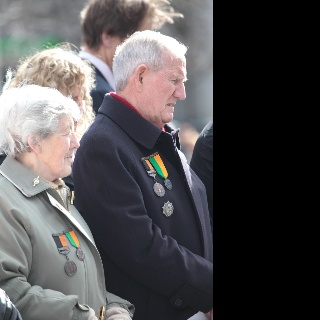without_mask: (143, 56, 187, 128), (39, 116, 79, 176)
